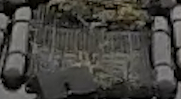bag: (4, 5, 170, 98)
